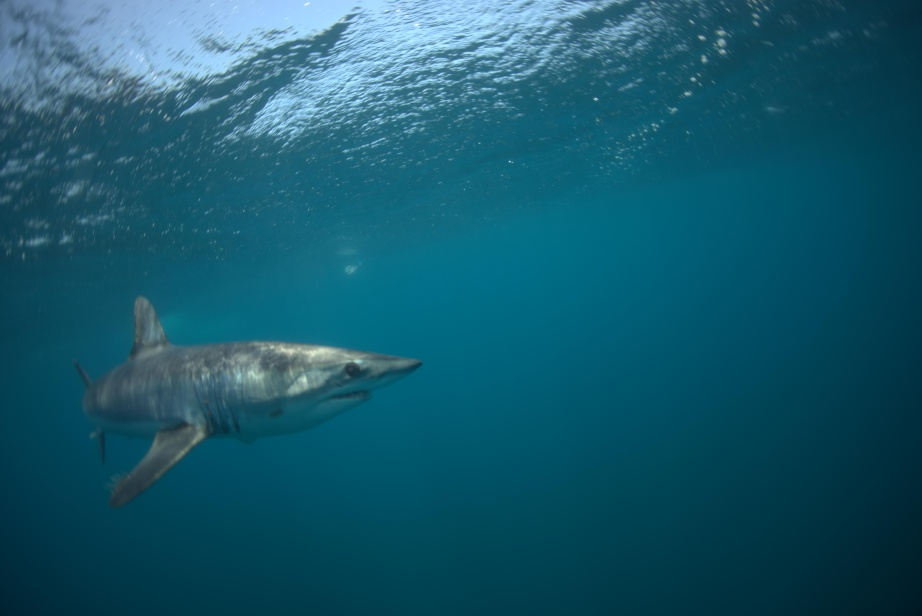Mako: (51, 290, 432, 510)
